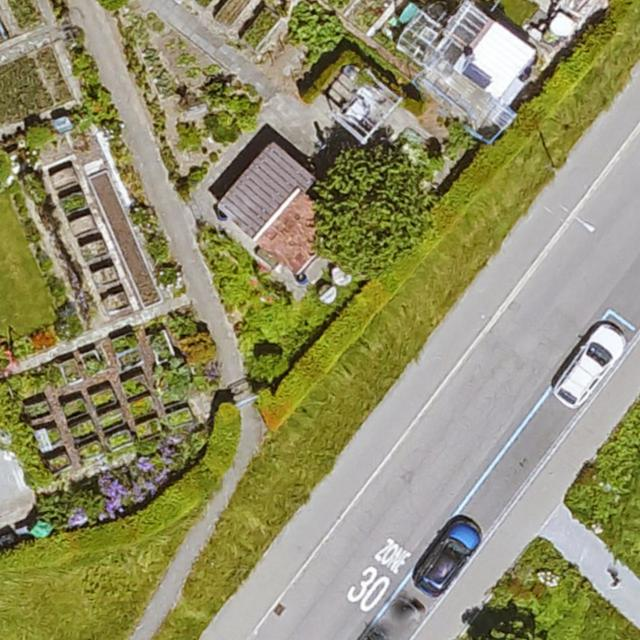tree: (305, 142, 436, 266), (246, 346, 290, 383)
